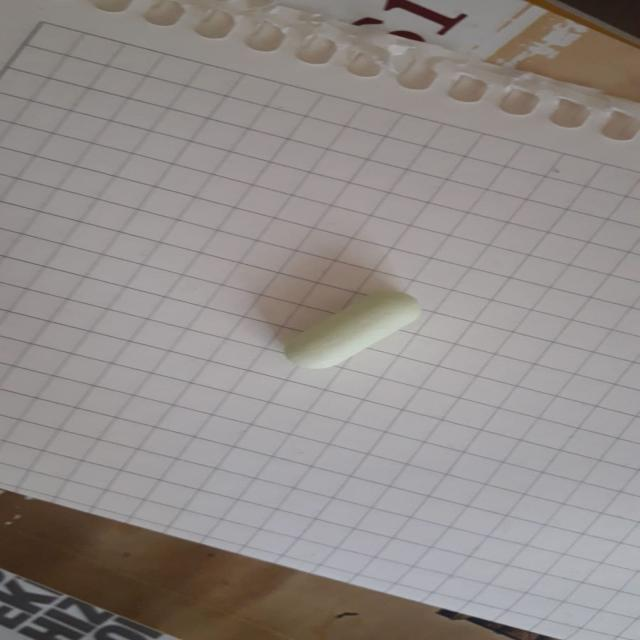pills: (249, 276, 446, 377)
